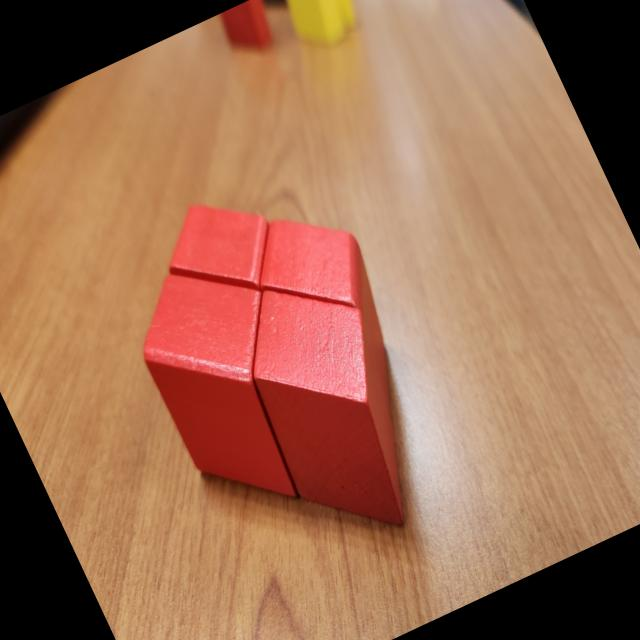red: (213, 256, 452, 561), (114, 241, 348, 534), (234, 190, 430, 444), (150, 179, 294, 322), (214, 0, 281, 62)
yellow: (273, 0, 358, 59), (318, 0, 367, 29)
